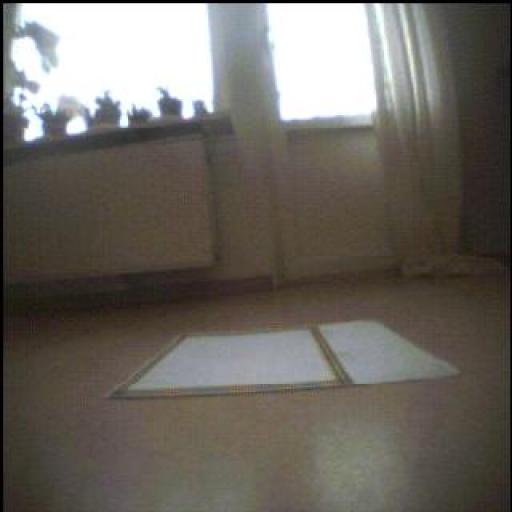Pad: (112, 323, 461, 400)
